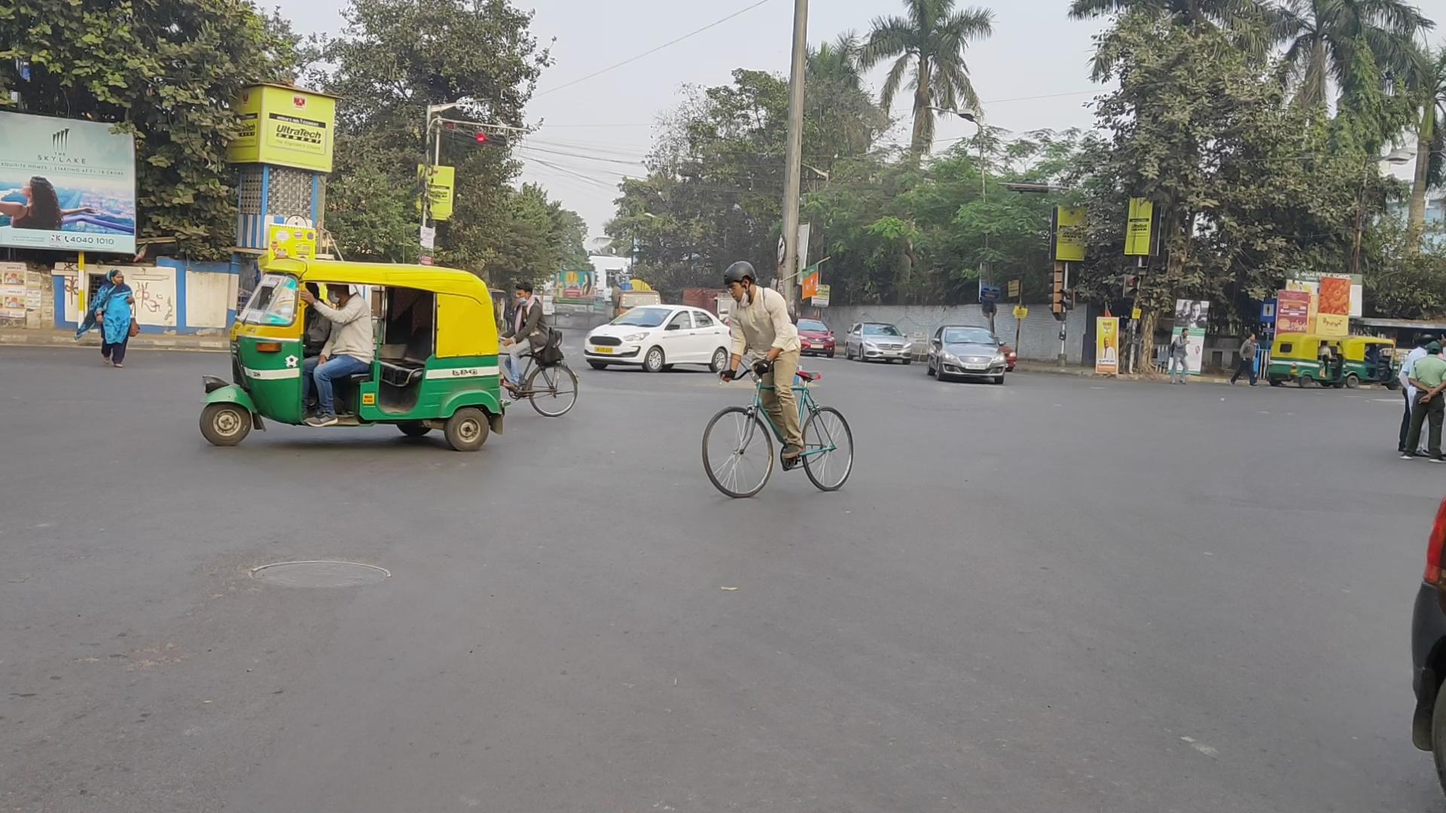Auto: (200, 255, 515, 452), (1267, 331, 1348, 388), (1345, 336, 1402, 391)
bike: (701, 261, 855, 499), (492, 282, 581, 416)
car: (586, 305, 734, 374), (926, 324, 1007, 387), (845, 321, 915, 367), (795, 316, 836, 361)
